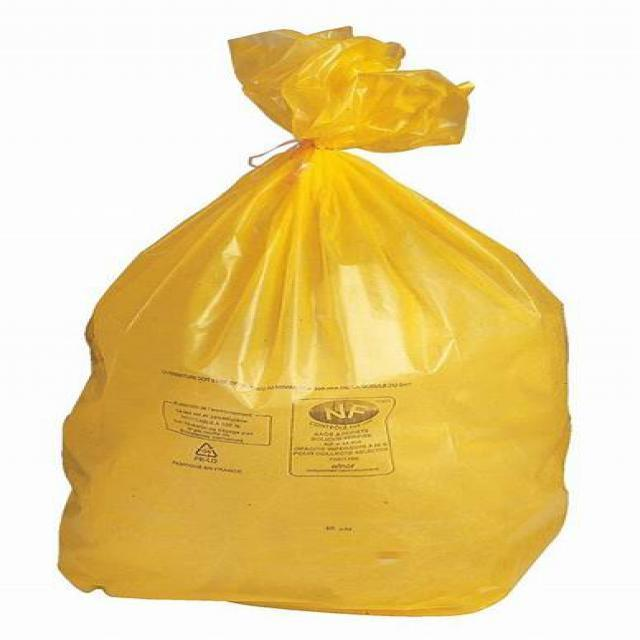waste: (49, 22, 566, 612)
